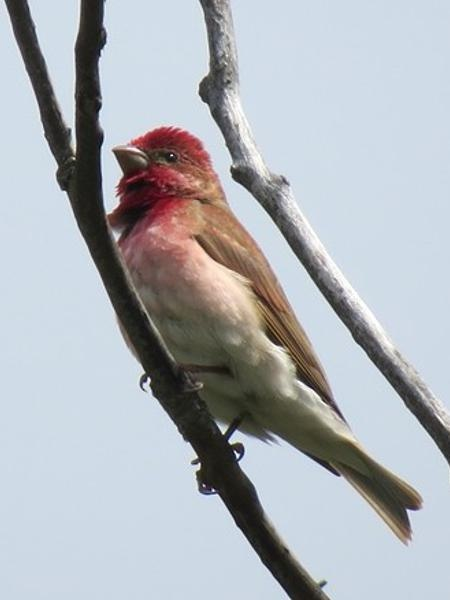rosefinch: (87, 109, 396, 538)
